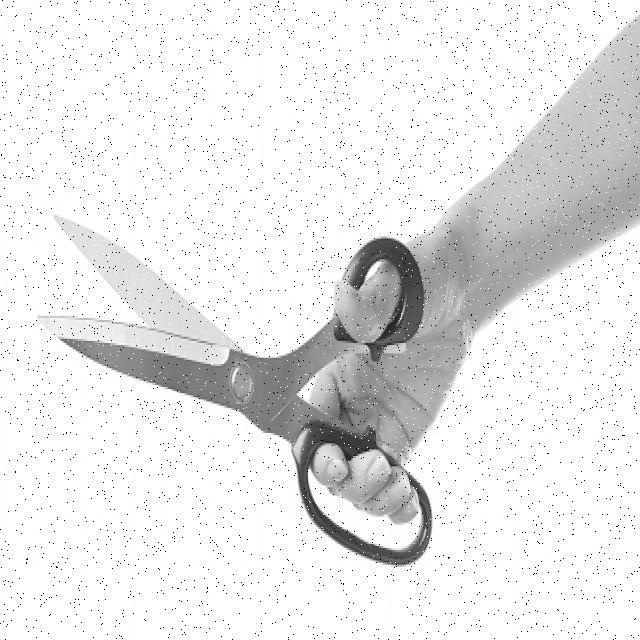scissors: (31, 195, 434, 570)
